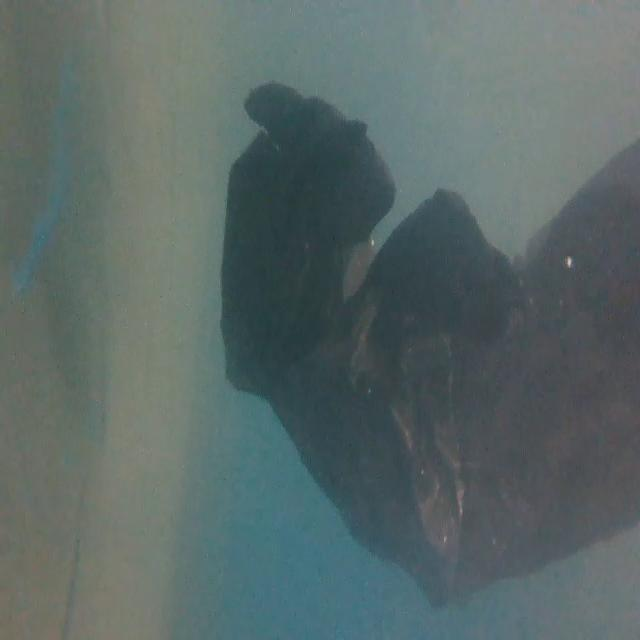plastic bags: (218, 81, 640, 620)
